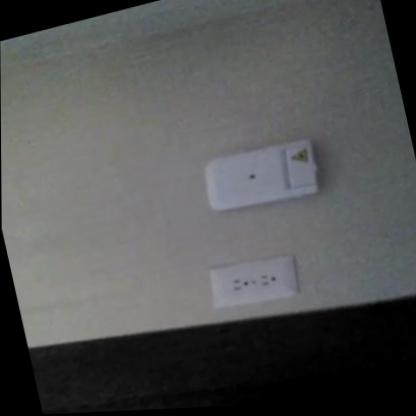OUTLET: (206, 247, 300, 315)
